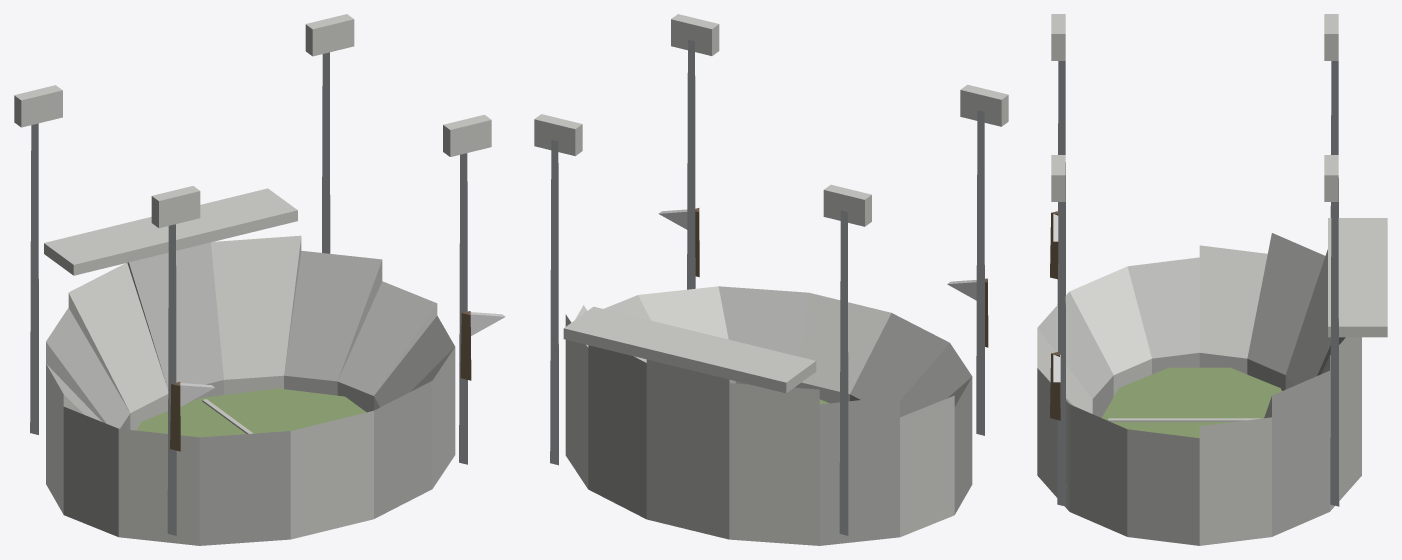
File: stadium.glb
3 renders of one model, left to right at view 1: azimuth 30°, elevation 25°; view 2: azimuth 150°, elevation 25°; view 3: azimuth 270°, elevation 25°, orthographic.
Visible parts, largest first — view 1: LOD0; view 2: LOD0; view 3: LOD0.
Boxes of the visible parts, left/top/right/bottom form: LOD0: left=14, top=14, right=505, bottom=545; LOD0: left=534, top=14, right=1008, bottom=545; LOD0: left=1037, top=14, right=1387, bottom=545.
Size of what is drawn, in the model's own units: 0.36 by 0.345 by 0.2945.
